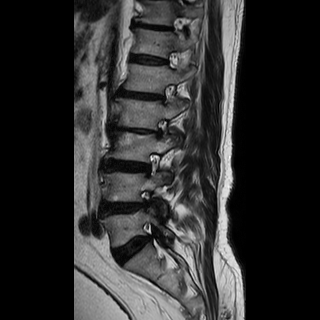RFS0: (138, 146, 162, 183), (156, 79, 180, 110)
RFS1: (150, 113, 172, 144)
